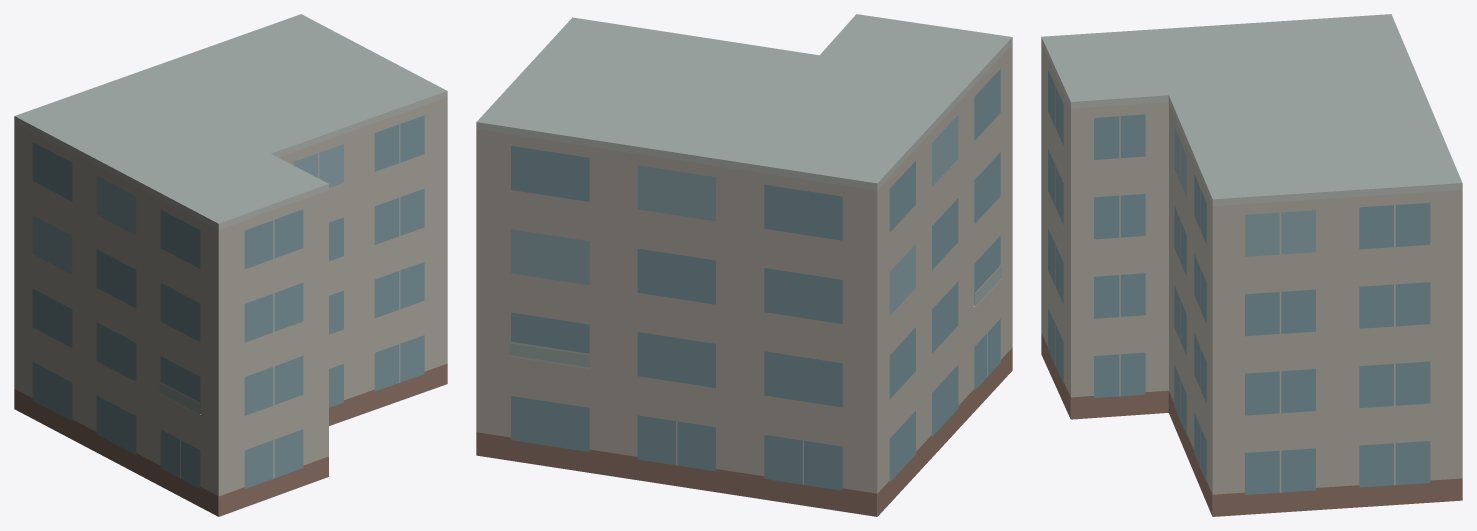
The model's file is survey-upis-32725481.glb.
The picture shows the model from 3 angles, left to right: view 1: azimuth 30°, elevation 25°; view 2: azimuth 150°, elevation 25°; view 3: azimuth 270°, elevation 25°; orthographic projection. The views are drawn at different scales.
Parts seen in each view (by area): view 1: survey-upis-32725481.tmp; view 2: survey-upis-32725481.tmp; view 3: survey-upis-32725481.tmp.
Part boxes in pixels (bbox=[...]): survey-upis-32725481.tmp: bbox=[14, 14, 447, 516]; survey-upis-32725481.tmp: bbox=[476, 14, 1012, 516]; survey-upis-32725481.tmp: bbox=[1041, 14, 1462, 516].
Size of the model in its own units: 14.28 by 11.4 by 13.72.
